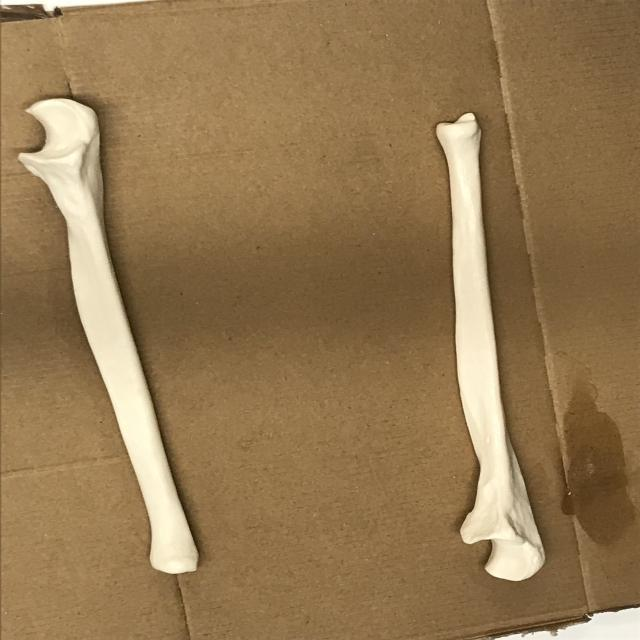bone: (13, 96, 203, 576), (436, 110, 548, 588)
